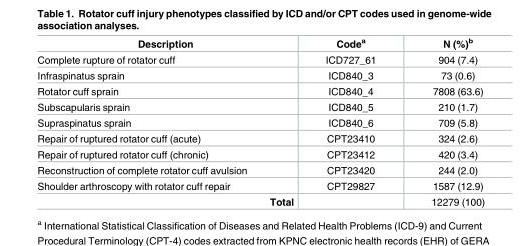table: (36, 37, 484, 206)
table column: (36, 37, 308, 206), (308, 37, 402, 206), (402, 37, 484, 206)
table column header: (36, 37, 484, 51)
table row: (36, 51, 484, 67), (36, 67, 484, 83), (36, 83, 484, 99), (36, 99, 484, 115), (36, 130, 484, 146), (36, 146, 484, 162), (36, 162, 484, 178), (36, 178, 484, 194), (36, 115, 484, 130), (36, 37, 484, 51), (36, 194, 484, 206)
